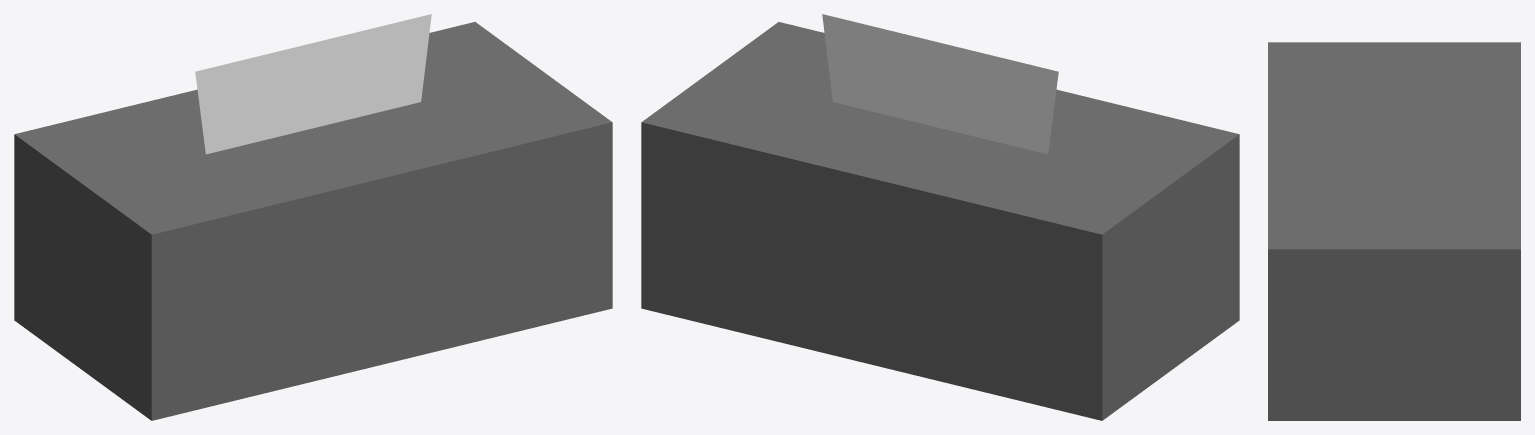
Rendered from Itr_Obj_Tissue_05.FBX.
3 views of the same model, side by side, from view 1: azimuth 30°, elevation 25°; view 2: azimuth 150°, elevation 25°; view 3: azimuth 270°, elevation 25° (orthographic). The views are drawn at different scales.
Visible parts, largest first — view 1: Itr_Obj_Tissue_05; view 2: Itr_Obj_Tissue_05; view 3: Itr_Obj_Tissue_05.
Part boxes in pixels (x1=…): Itr_Obj_Tissue_05: x1=14, y1=14, x2=612, y2=420; Itr_Obj_Tissue_05: x1=641, y1=14, x2=1239, y2=420; Itr_Obj_Tissue_05: x1=1268, y1=42, x2=1520, y2=420.
Bounding box in the file's own units: 16.29 × 9.18 × 8.4.
